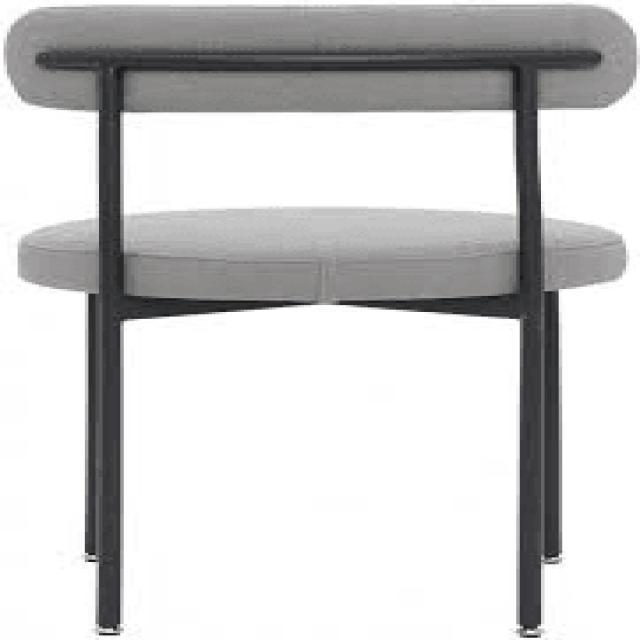chair: (7, 2, 640, 640), (14, 2, 633, 301)
